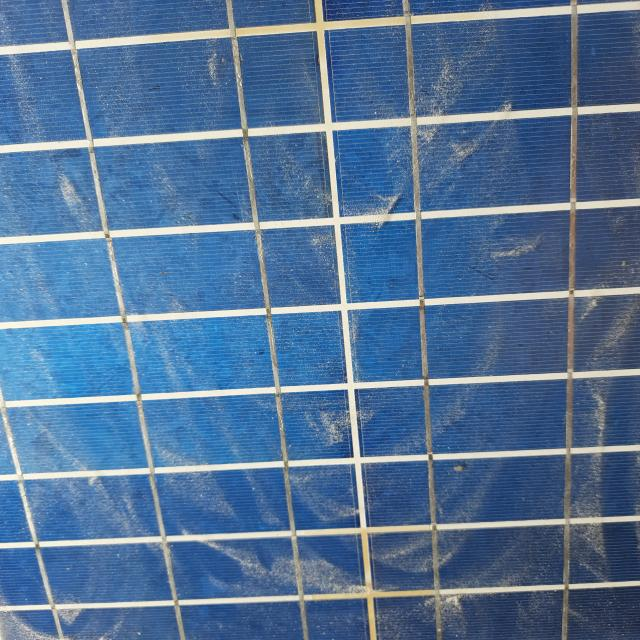dust-solar-panel: (2, 0, 637, 640)
